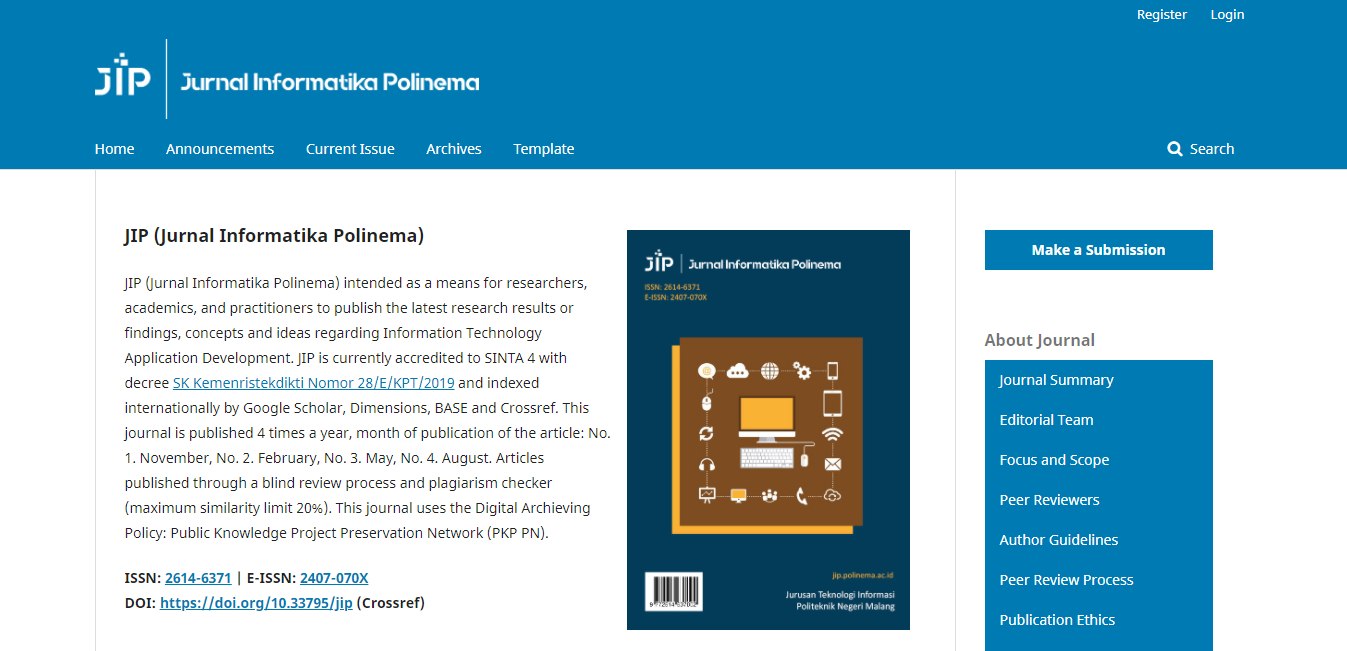Button: (981, 228, 1216, 273)
Image: (622, 226, 915, 634), (89, 42, 493, 127)
Menu Bar: (88, 133, 586, 165)
Nav Bar: (1160, 135, 1239, 167), (1130, 4, 1196, 31), (1201, 1, 1256, 33)
Side Bar: (981, 357, 1214, 651)
